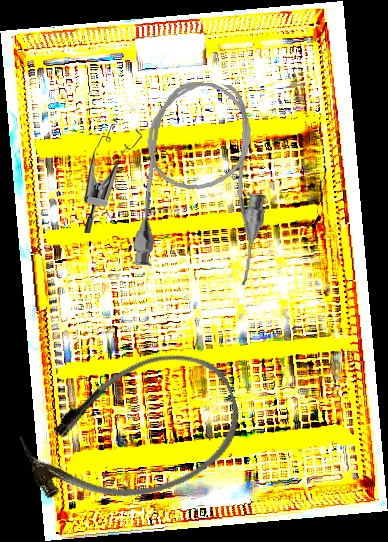Cannula: (9, 335, 256, 530), (130, 77, 276, 287)
Speculum: (83, 119, 142, 234)
